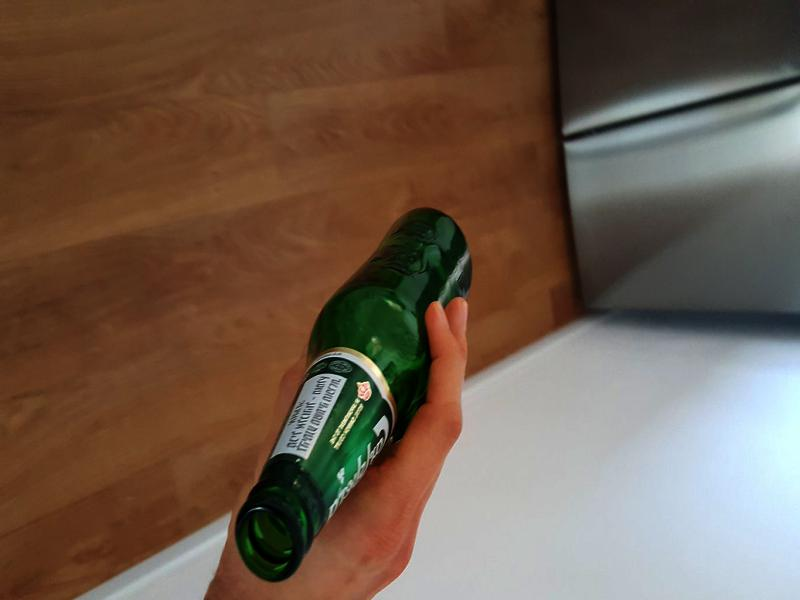Beer: (233, 207, 470, 583)
